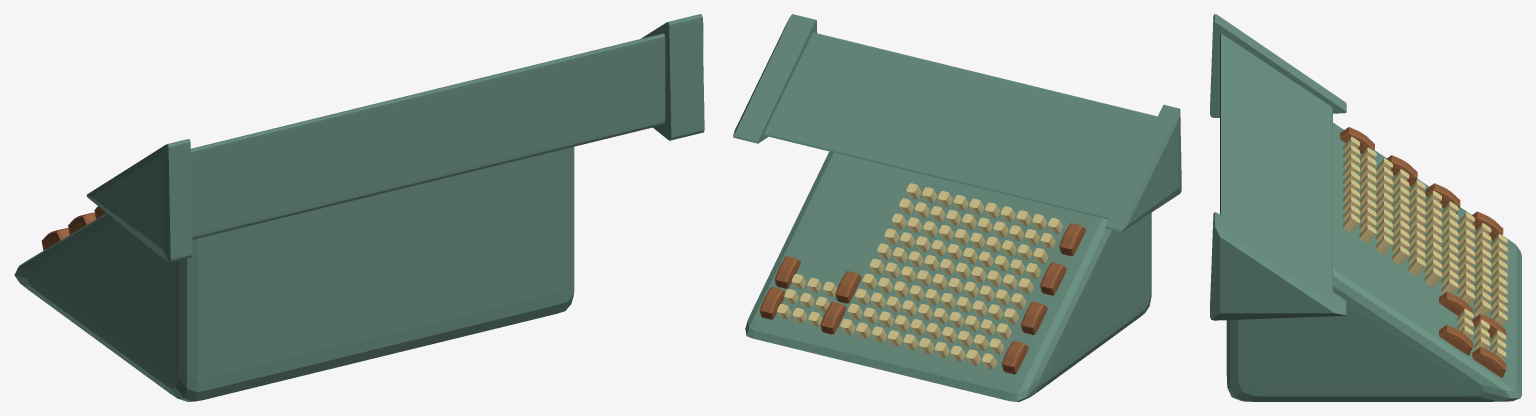
File: Calculator.fbx
The picture shows the model from 3 angles, left to right: view 1: azimuth 30°, elevation 25°; view 2: azimuth 150°, elevation 25°; view 3: azimuth 270°, elevation 25°; orthographic projection. The views are drawn at different scales.
Parts seen in each view (by area): view 1: Plane, Plane.001, Cube.001; view 2: Plane.001, Plane, Cube, Cube.001, Cube.003, Cube.002, Cube.004; view 3: Plane, Plane.001, Cube, Cube.001, Cube.004, Cube.003, Cube.002.
Boxes of the visible parts, box(x1,y1,x2,y2) form: Plane: box(14, 147, 574, 401); Plane.001: box(86, 14, 704, 262); Cube.001: box(41, 206, 105, 250); Plane.001: box(733, 14, 1181, 232); Plane: box(745, 151, 1151, 401); Cube: box(840, 183, 1062, 369); Cube.001: box(1001, 223, 1085, 374); Cube.003: box(777, 274, 836, 326); Cube.002: box(820, 271, 861, 334); Cube.004: box(759, 256, 800, 319); Plane: box(1226, 122, 1521, 401); Plane.001: box(1210, 14, 1346, 320); Cube: box(1343, 136, 1507, 326); Cube.001: box(1340, 127, 1503, 240); Cube.004: box(1439, 325, 1506, 377); Cube.003: box(1457, 309, 1506, 360); Cube.002: box(1439, 292, 1506, 337).
Bounding box in the file's own units: 584 × 289 × 360.
